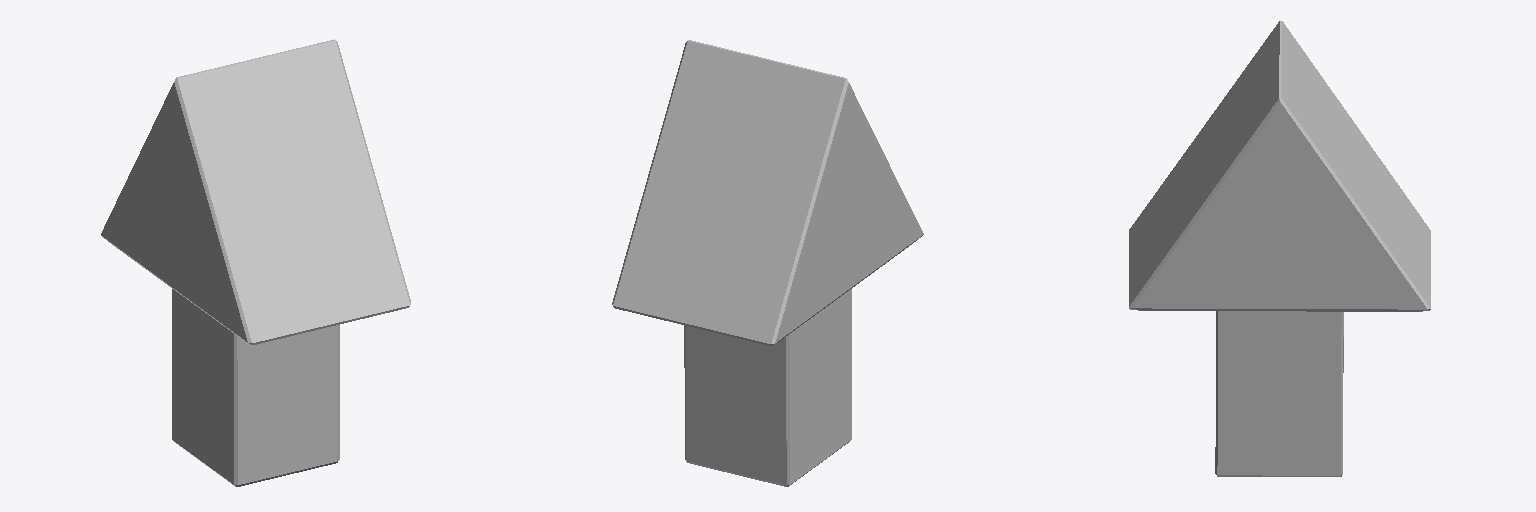
File: arrow1.obj
3 renders of one model, left to right at view 1: azimuth 30°, elevation 25°; view 2: azimuth 150°, elevation 25°; view 3: azimuth 270°, elevation 25°, orthographic.
Visible parts, largest first — view 1: default; view 2: default; view 3: default.
Part boxes in pixels (left/top/right/bottom): default: left=101, top=39, right=410, bottom=486; default: left=612, top=40, right=923, bottom=486; default: left=1129, top=21, right=1430, bottom=476.
Bounding box in the file's own units: 0.4671 × 1.07 × 0.7467.